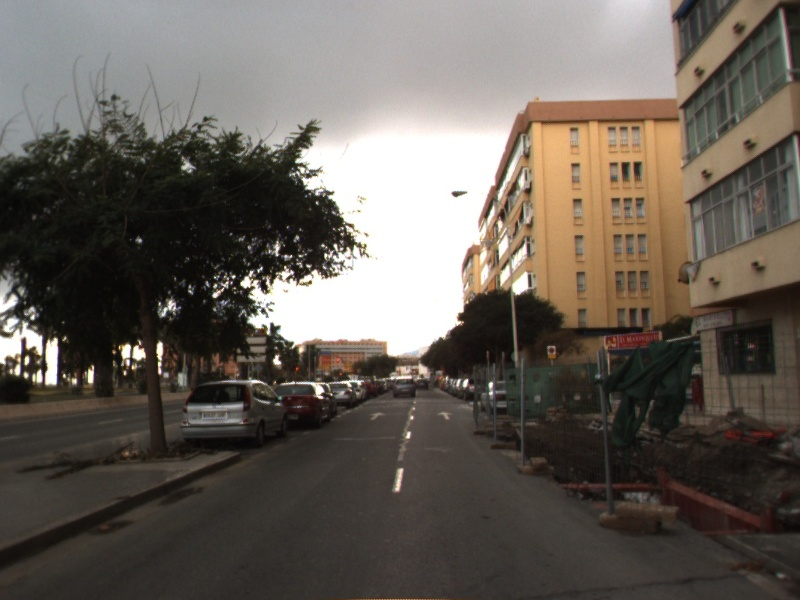STRAIGHT: (367, 410, 388, 422), (435, 410, 455, 420)
